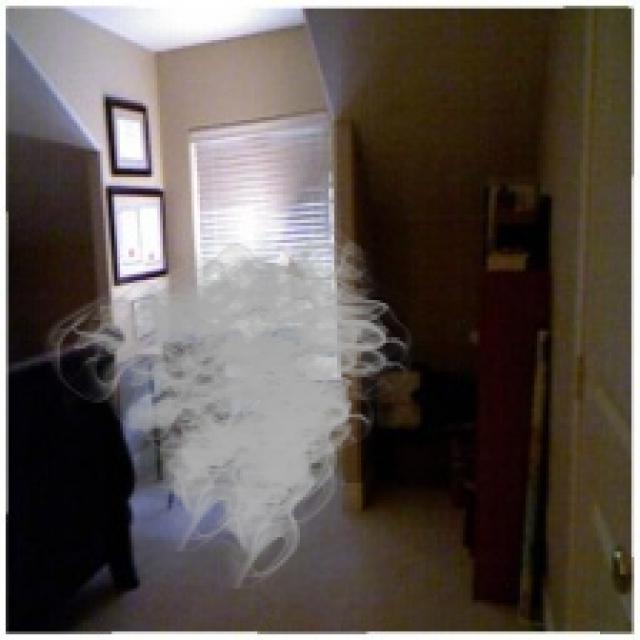smoke: (40, 217, 423, 589)
